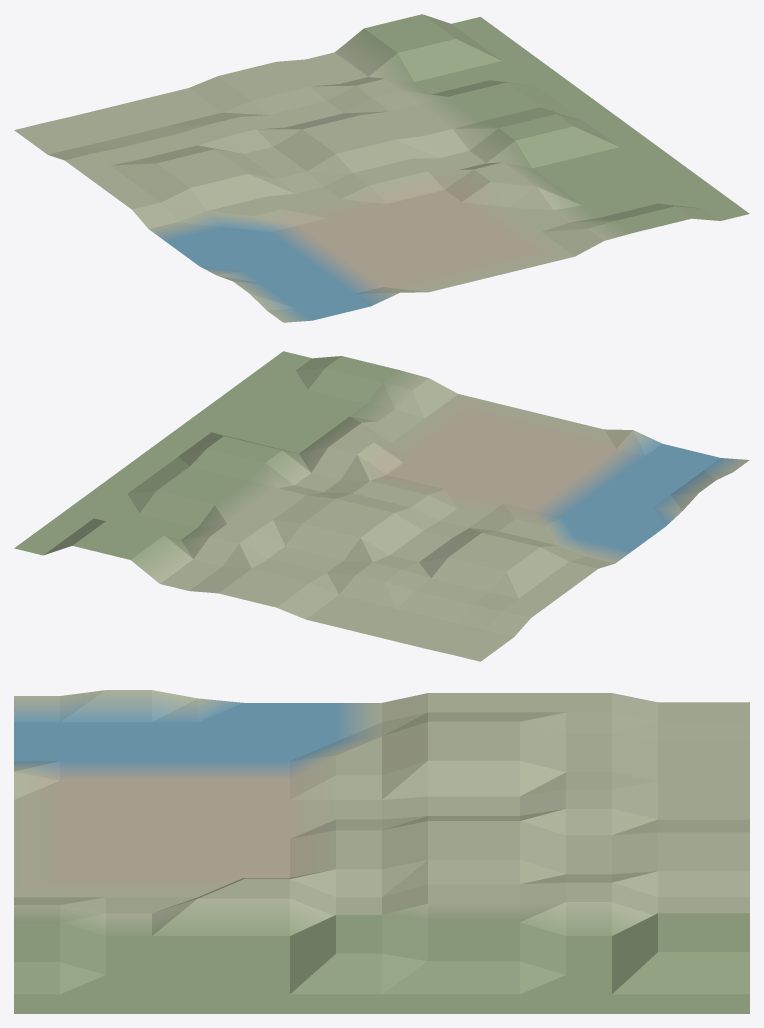
3 renders of one model, top to bottom at view 1: azimuth 30°, elevation 25°; view 2: azimuth 150°, elevation 25°; view 3: azimuth 270°, elevation 25°, orthographic. The views are drawn at different scales.
Bounding box in the file's own units: 32 × 1.1 × 32.
